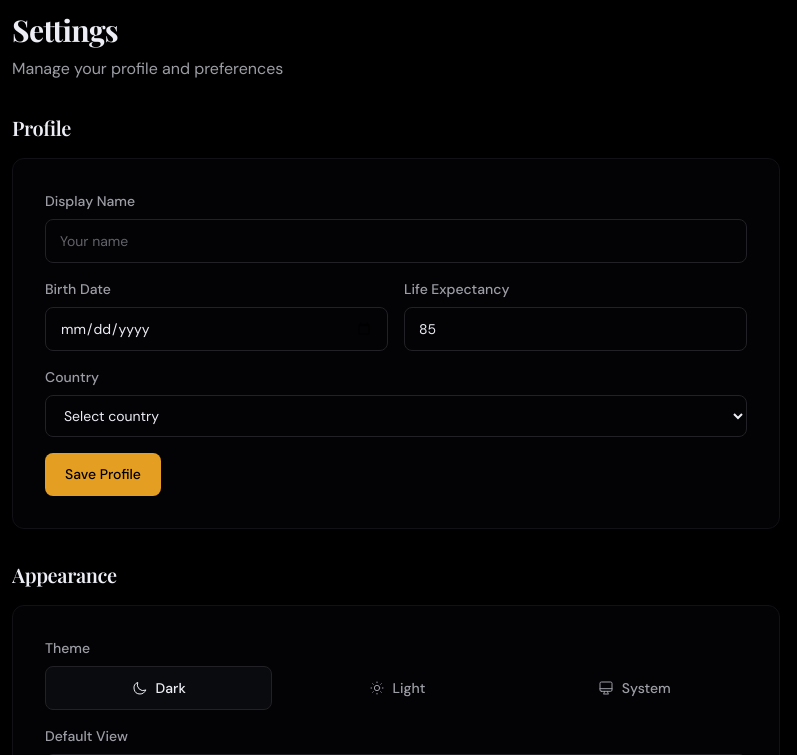
Scenario: SettingsView › Profile Section › shows success message after saving
In the field with placeholder "Your name": (396,241) [45,219,747,263], type "Test User"
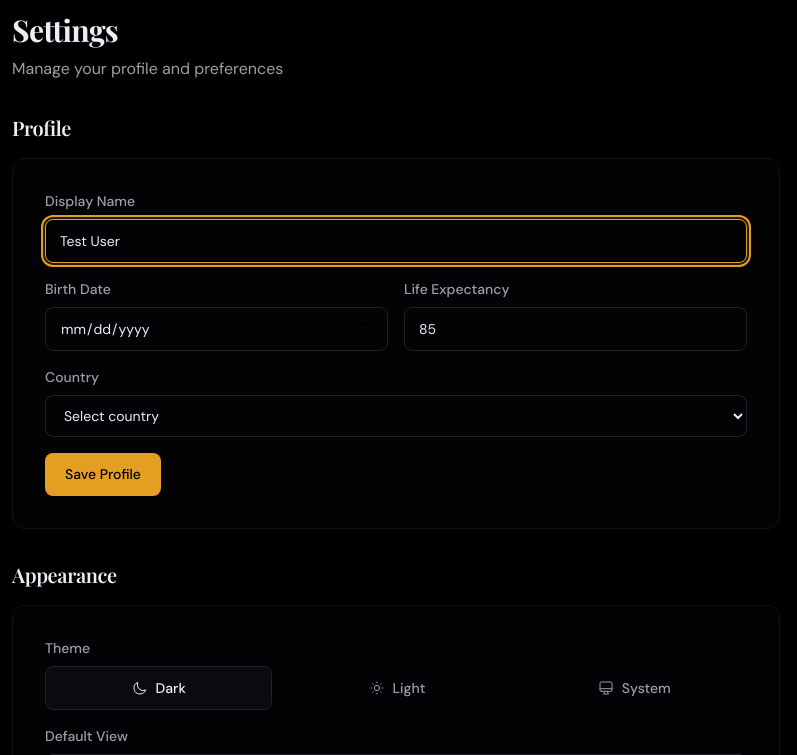
Click the button "Save Profile": (103,475) [45,453,161,496]
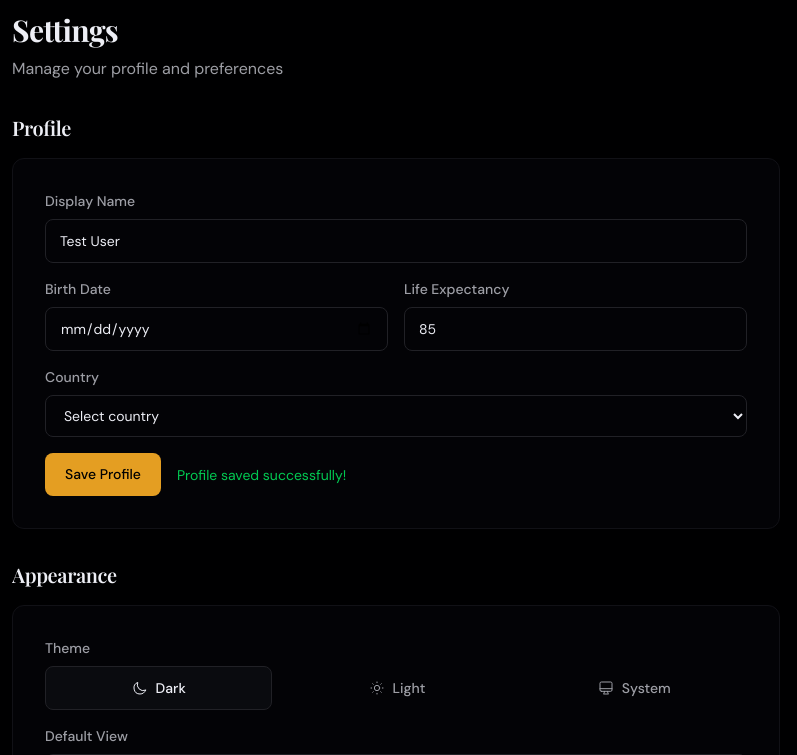
Expected: the text "Profile saved successfully!" is shown, [177,465,346,485]
